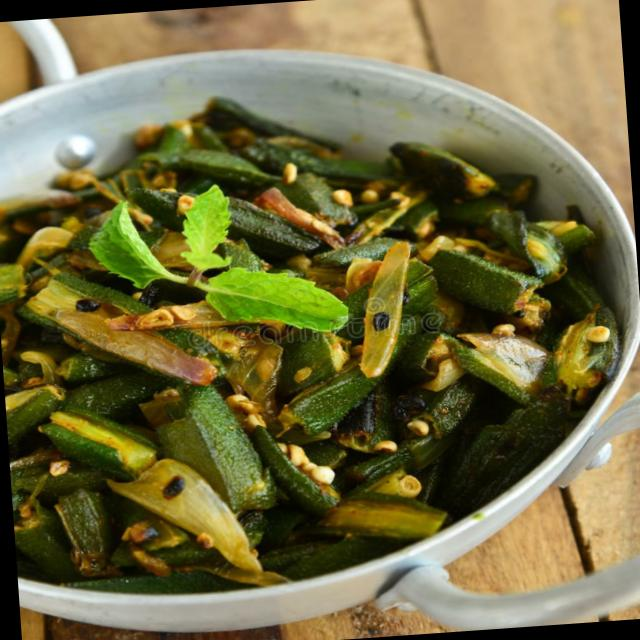BhindiMasala: (0, 68, 634, 606)
